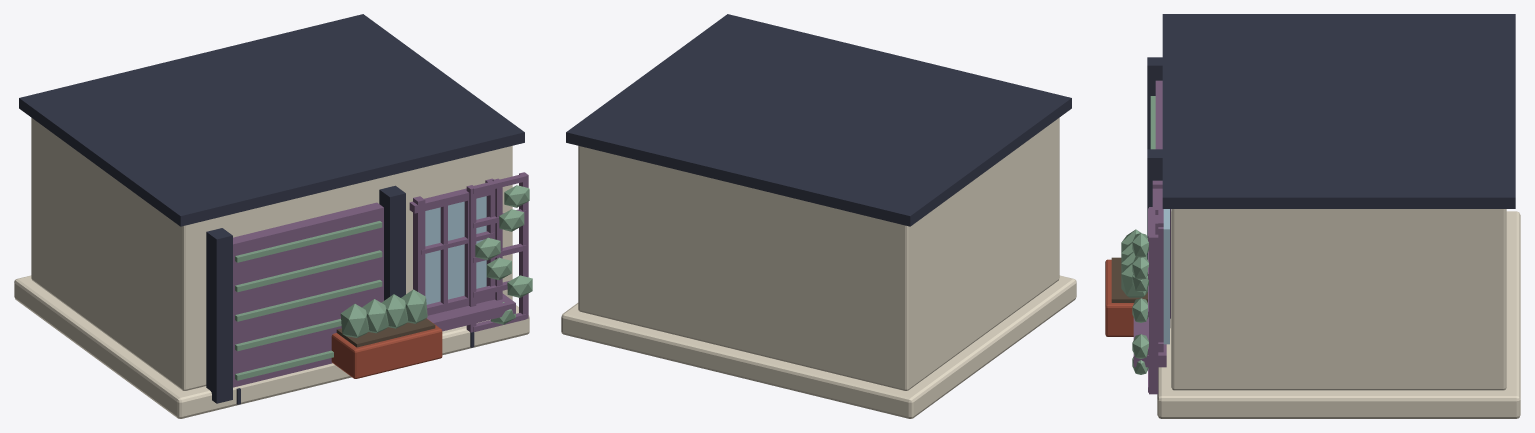
Rendered from base_workshop_gardens_0.glb.
3 renders of one model, left to right at view 1: azimuth 30°, elevation 25°; view 2: azimuth 150°, elevation 25°; view 3: azimuth 270°, elevation 25°, orthographic. The views are drawn at different scales.
Visible parts, largest first — view 1: base_workshop_gardens_0 ink, base_workshop_gardens_0 mist, base_workshop_gardens_0 patina, base_workshop_gardens_0 pine, base_workshop_gardens_0 clay, base_workshop_gardens_0 glass, base_workshop_gardens_0 leaf, base_workshop_gardens_0 soil; view 2: base_workshop_gardens_0 mist, base_workshop_gardens_0 ink; view 3: base_workshop_gardens_0 mist, base_workshop_gardens_0 ink, base_workshop_gardens_0 patina, base_workshop_gardens_0 pine, base_workshop_gardens_0 clay, base_workshop_gardens_0 glass, base_workshop_gardens_0 soil.
Part boxes in pixels (left/top/right/bottom): base_workshop_gardens_0 ink: left=19, top=14, right=524, bottom=404; base_workshop_gardens_0 mist: left=14, top=118, right=529, bottom=418; base_workshop_gardens_0 patina: left=233, top=172, right=528, bottom=387; base_workshop_gardens_0 pine: left=235, top=185, right=532, bottom=380; base_workshop_gardens_0 clay: left=331, top=318, right=442, bottom=378; base_workshop_gardens_0 glass: left=425, top=196, right=486, bottom=304; base_workshop_gardens_0 leaf: left=340, top=294, right=408, bottom=337; base_workshop_gardens_0 soil: left=336, top=318, right=435, bottom=347; base_workshop_gardens_0 mist: left=561, top=117, right=1076, bottom=418; base_workshop_gardens_0 ink: left=566, top=14, right=1071, bottom=226; base_workshop_gardens_0 mist: left=1157, top=209, right=1520, bottom=418; base_workshop_gardens_0 ink: left=1147, top=14, right=1515, bottom=327; base_workshop_gardens_0 patina: left=1133, top=80, right=1170, bottom=394; base_workshop_gardens_0 pine: left=1121, top=96, right=1155, bottom=374; base_workshop_gardens_0 clay: left=1105, top=259, right=1133, bottom=336; base_workshop_gardens_0 glass: left=1163, top=209, right=1169, bottom=344; base_workshop_gardens_0 soil: left=1111, top=257, right=1147, bottom=302.
Bounding box in the file's own units: 0.875 × 0.48 × 0.8175.
